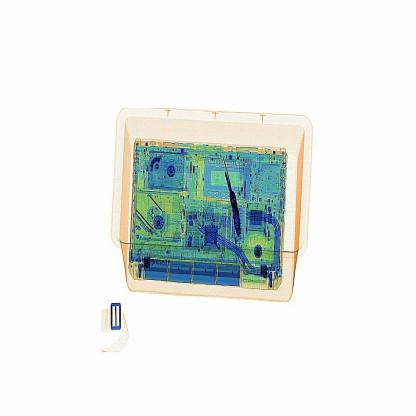wrench: (216, 142, 247, 241)
